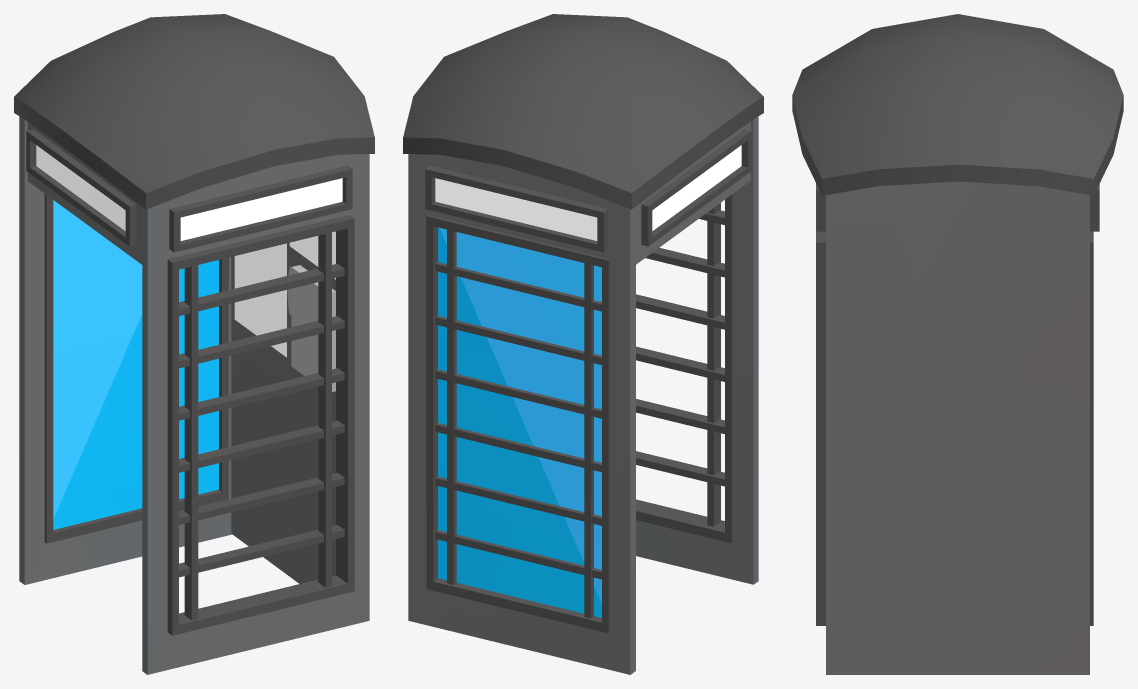
The model's file is Phone_Booth_02.glb.
3 renders of one model, left to right at view 1: azimuth 30°, elevation 25°; view 2: azimuth 150°, elevation 25°; view 3: azimuth 270°, elevation 25°, orthographic. The views are drawn at different scales.
Parts seen in each view (by area): view 1: Phone_Booth_02; view 2: Phone_Booth_02; view 3: Phone_Booth_02.
Boxes of the visible parts, x1,y1,x2,y2 form: Phone_Booth_02: (14,14,374,674); Phone_Booth_02: (403,14,763,674); Phone_Booth_02: (792,14,1123,674).
Bounding box in the file's own units: 1.48 × 2.86 × 1.48.
1 material, 1 textured.
